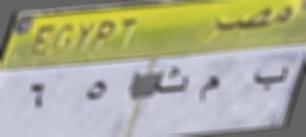5: (80, 72, 115, 105)
6: (22, 75, 53, 115)
baa: (250, 61, 290, 97)
meem: (195, 73, 225, 110)
thaa: (154, 63, 190, 97)
